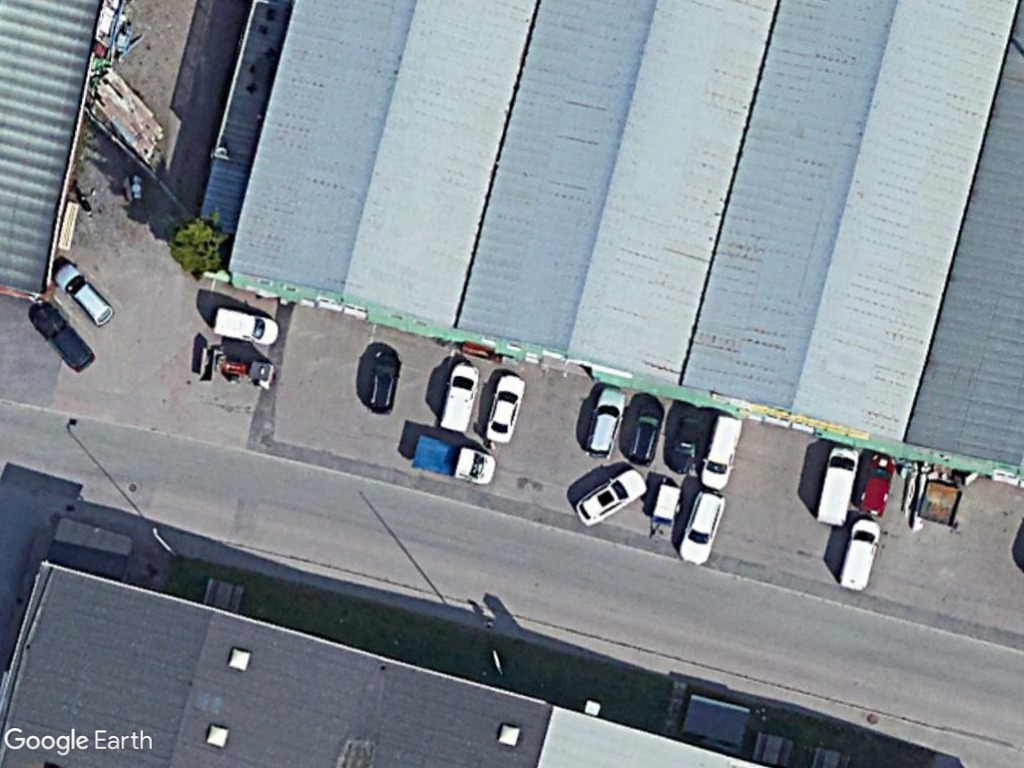car: (571, 465, 650, 528), (51, 260, 116, 328), (677, 484, 730, 564), (580, 384, 631, 463), (482, 373, 529, 445), (664, 414, 712, 479), (855, 453, 901, 519), (362, 348, 404, 417), (625, 400, 667, 468)
other: (408, 432, 500, 489)
van: (813, 443, 862, 531), (697, 413, 748, 492), (435, 357, 483, 437), (835, 516, 884, 592), (212, 303, 284, 350)
